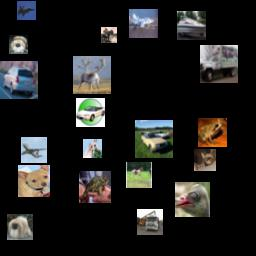airplane: (129, 9, 158, 38), (21, 137, 47, 163), (17, 1, 36, 20)
automobile: (135, 120, 173, 158), (0, 61, 38, 99), (76, 98, 105, 127)
bird: (175, 182, 210, 217)
cat: (194, 149, 216, 171)
deer: (73, 56, 111, 94)
dog: (18, 165, 50, 197), (7, 214, 33, 240), (9, 35, 28, 54)
frog: (79, 171, 111, 203), (198, 118, 227, 147)
ship: (177, 11, 206, 40)
truck: (200, 45, 238, 83), (137, 209, 163, 235)
